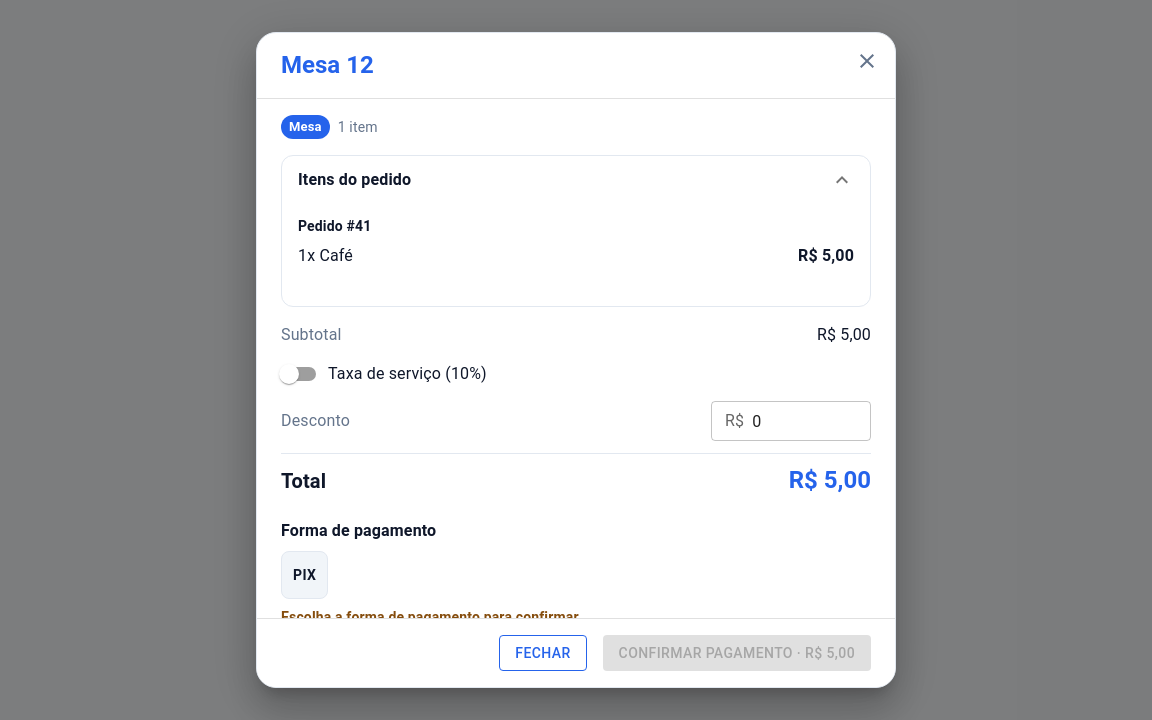
Test case: CheckoutDialog confirmação de fechamento › cancela e não dispara pagamento nem fechamento
Check: the text "1x Café" is shown, box [298,244,353,268]
Check: the button "Confirmar pagamento · R$ 5,00" is disabled, box [603,634,871,671]
Click the button "PIX": (305, 575) [281,551,328,599]
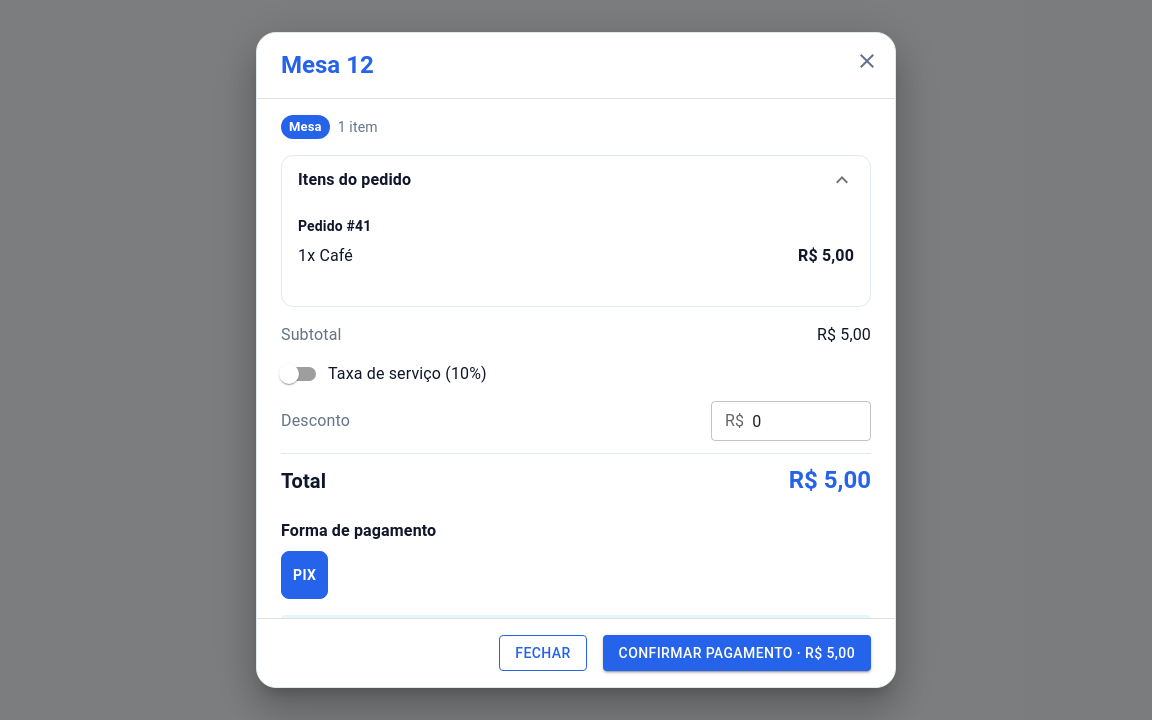
Check: the button "Confirmar pagamento · R$ 5,00" is enabled
Click the button "Confirmar pagamento · R$ 5,00": (737, 653) [603,634,871,671]
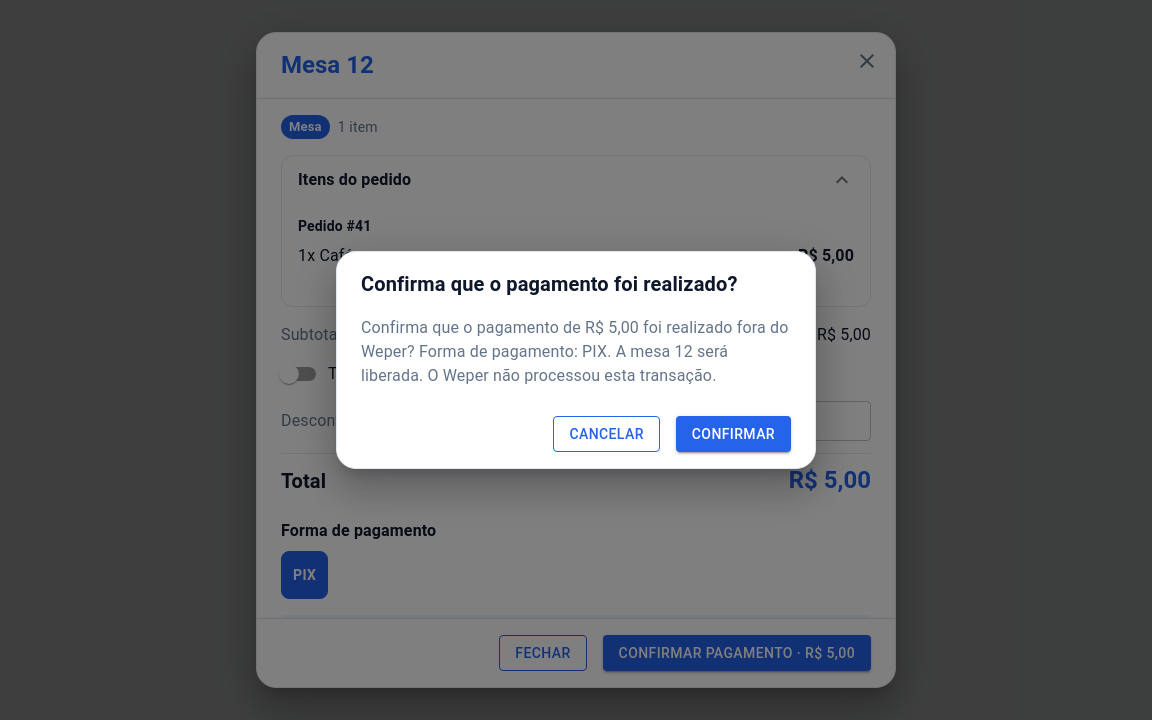
Check: the heading "Confirma que o pagamento foi realizado?" is shown, box [361,272,738,296]
Click the button "Cancelar": (607, 434) [553,416,660,452]
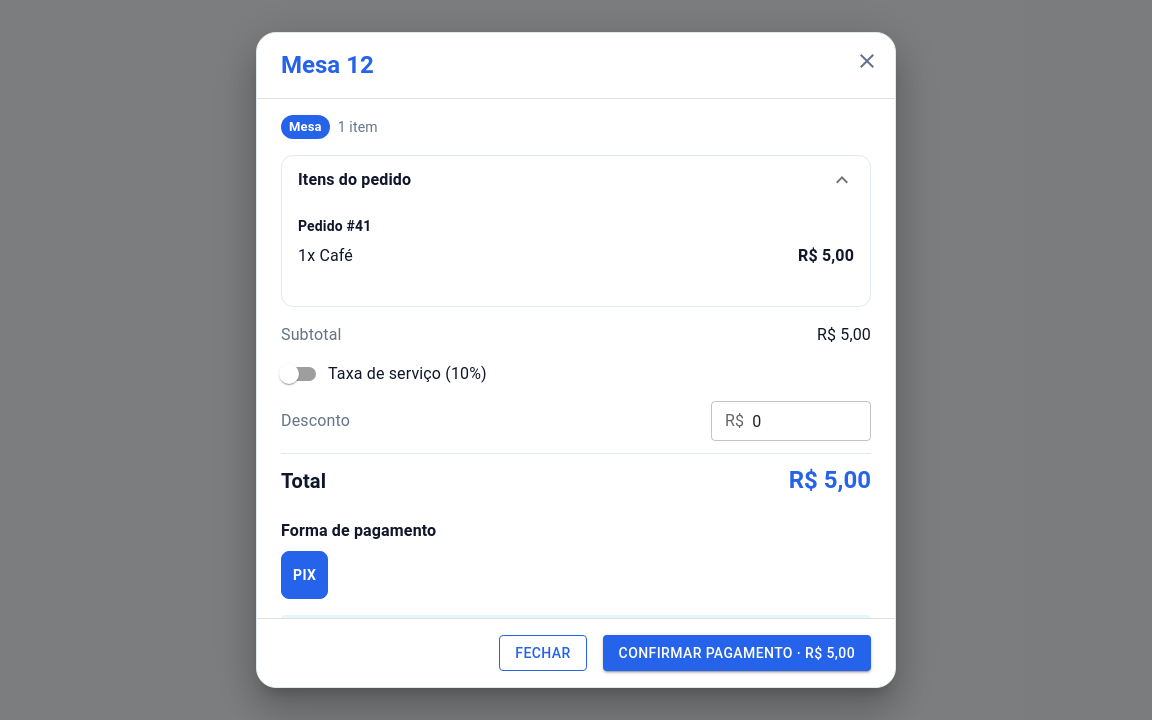
Check: the heading "Confirma que o pagamento foi realizado?" is gone
